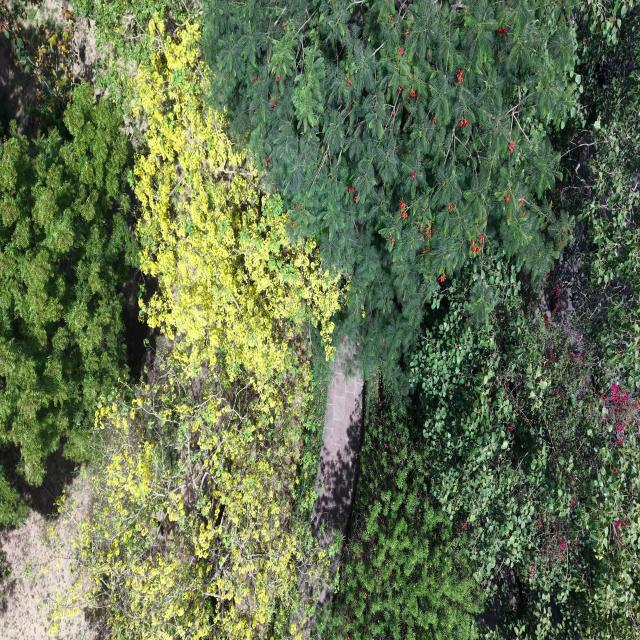DRY_AREA: (0, 473, 90, 639), (0, 475, 90, 639), (312, 345, 363, 549), (312, 346, 362, 546), (312, 344, 363, 533), (312, 346, 363, 532), (0, 35, 40, 135), (123, 267, 159, 374), (0, 35, 37, 133)
PATHWAYS: (312, 344, 363, 548)
VEGETATION_TREE: (0, 0, 639, 639), (60, 20, 341, 639), (205, 0, 578, 390), (410, 4, 639, 637), (320, 263, 639, 638), (412, 263, 639, 637), (53, 343, 327, 639), (134, 21, 341, 411), (0, 86, 136, 484), (319, 381, 483, 639), (553, 3, 639, 389), (77, 0, 200, 143), (0, 0, 79, 126), (0, 465, 28, 527)
